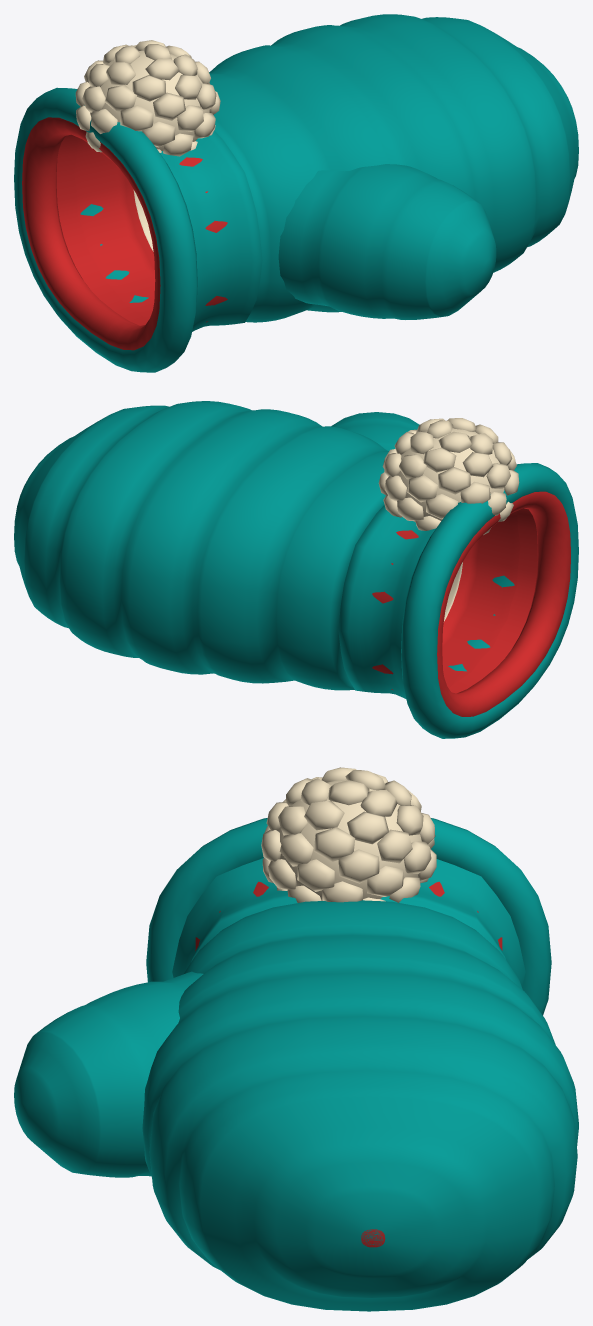
File: mismatched_mitts.glb
3 views of the same model, one above another, from view 1: azimuth 30°, elevation 25°; view 2: azimuth 150°, elevation 25°; view 3: azimuth 270°, elevation 25° (orthographic). The views are drawn at different scales.
Visible parts, largest first — view 1: Puffer, Knit; view 2: Puffer, Knit; view 3: Puffer, Knit.
Boxes of the visible parts, box(x1,y1,x2,y2) form: Puffer: box(14, 14, 578, 372); Knit: box(22, 40, 227, 350); Puffer: box(14, 401, 578, 738); Knit: box(372, 418, 570, 716); Puffer: box(14, 818, 578, 1311); Knit: box(195, 767, 502, 1247).
Bounding box in the file's own units: 0.3478 × 0.2034 × 0.2883.
